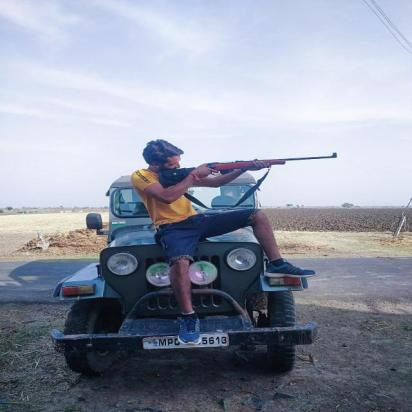Gun: (156, 152, 338, 190)
